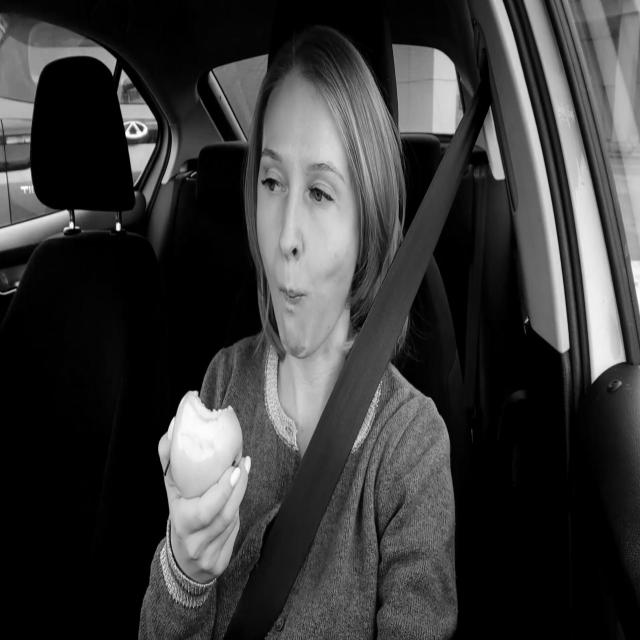Eating: (168, 385, 246, 504)
Seatbelt: (226, 69, 492, 640)
